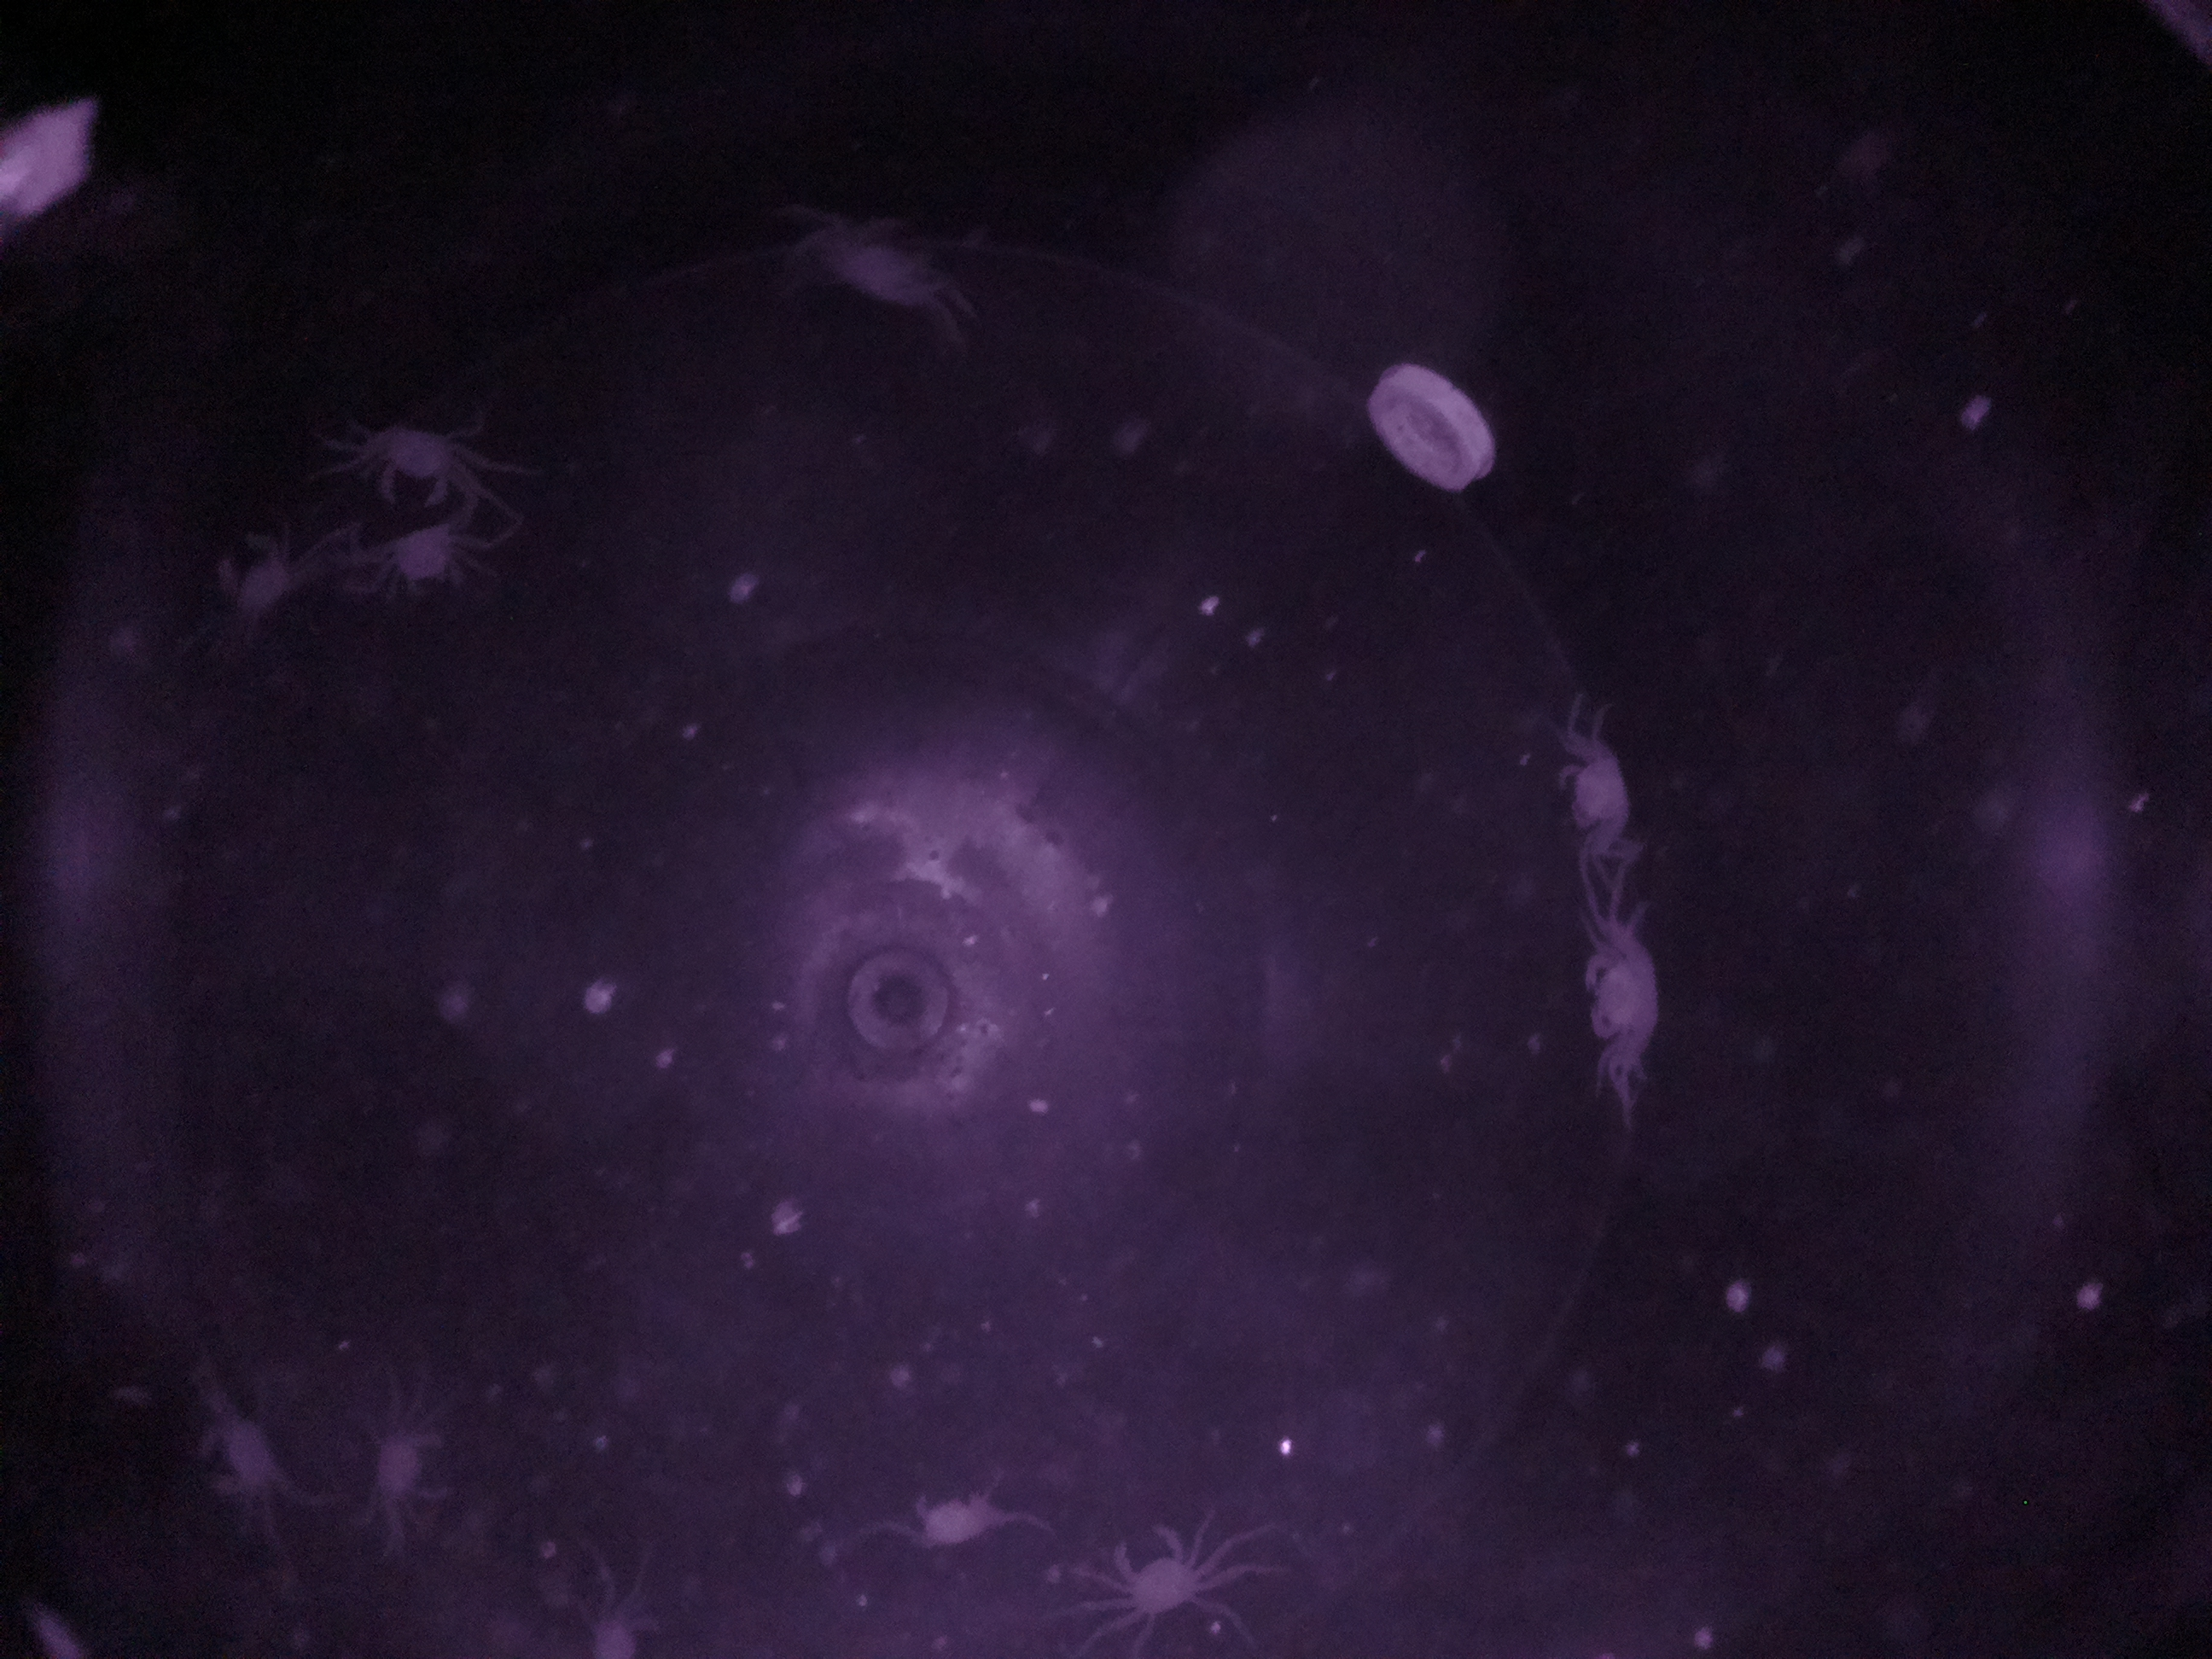Crab: (1568, 918, 1683, 1070), (1533, 728, 1653, 861), (371, 410, 469, 523)
